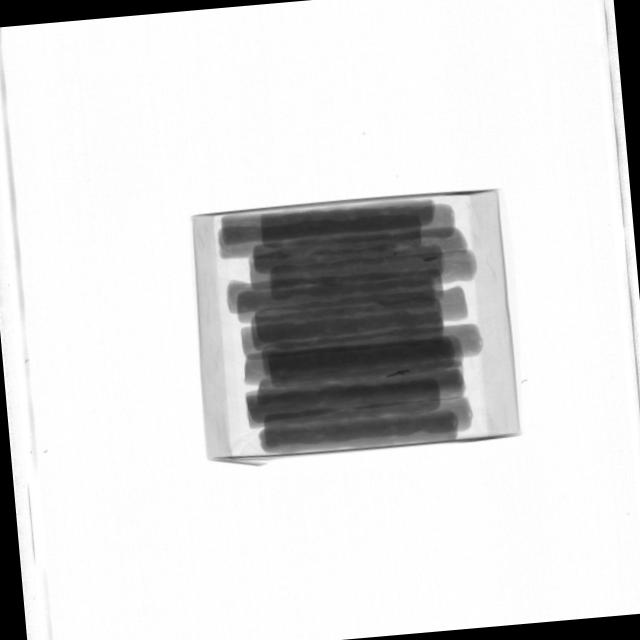ym: (384, 369, 411, 378), (423, 255, 439, 261), (392, 252, 397, 256)
